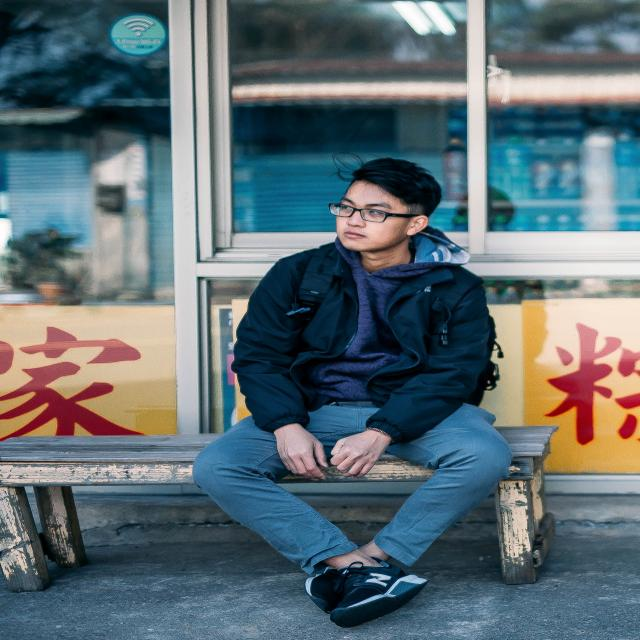nonfall: (203, 151, 510, 632)
